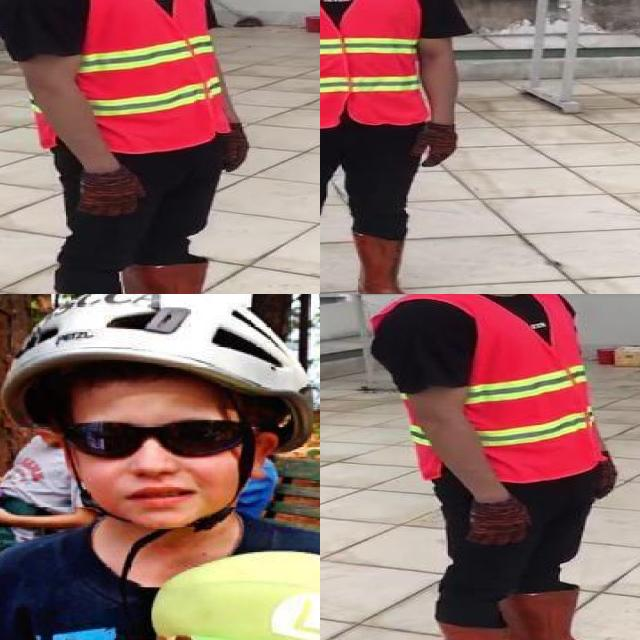boots: (501, 590, 632, 640), (123, 261, 267, 294), (352, 233, 425, 294), (434, 618, 576, 640)
face_nomask: (68, 403, 241, 515)
glasses: (42, 402, 282, 459)
hand_glove: (76, 168, 148, 220), (468, 501, 532, 545), (415, 124, 461, 167)
head_helmet: (3, 294, 294, 404)
person: (0, 294, 320, 640), (356, 294, 640, 640), (0, 0, 283, 294), (320, 0, 489, 294)
vest: (366, 294, 606, 480), (0, 0, 229, 151), (320, 0, 425, 125)
